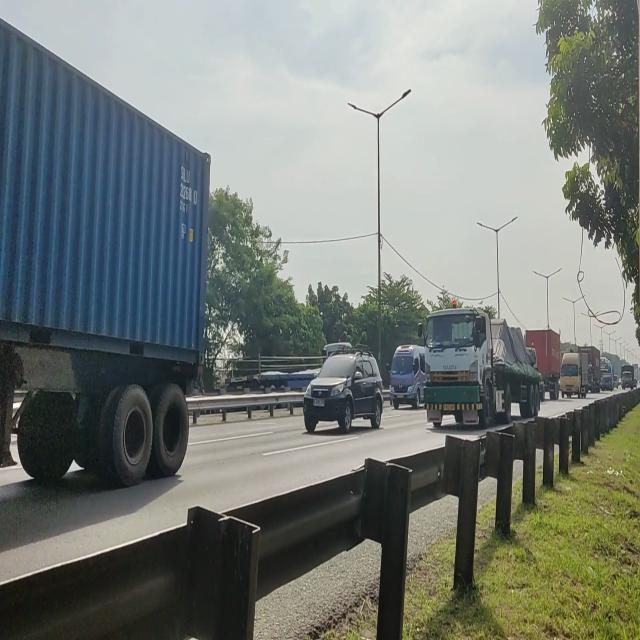Golongan I: (298, 343, 386, 438)
Golongan IV: (418, 299, 544, 440)
